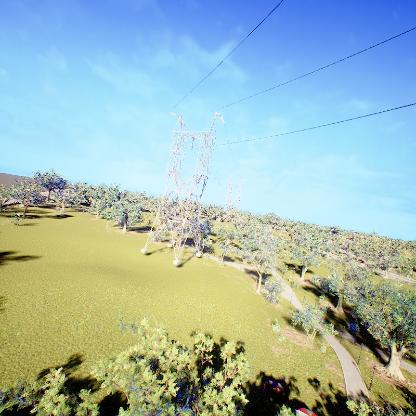tower: (140, 110, 226, 264)
